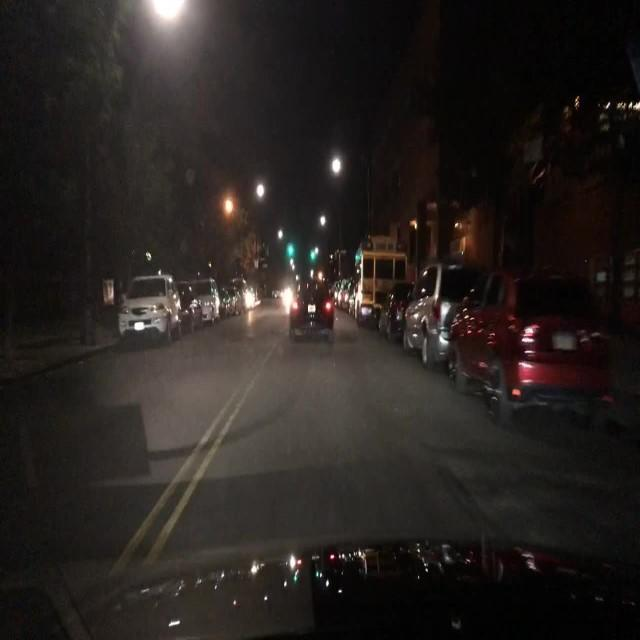normal: (87, 223, 640, 447)
